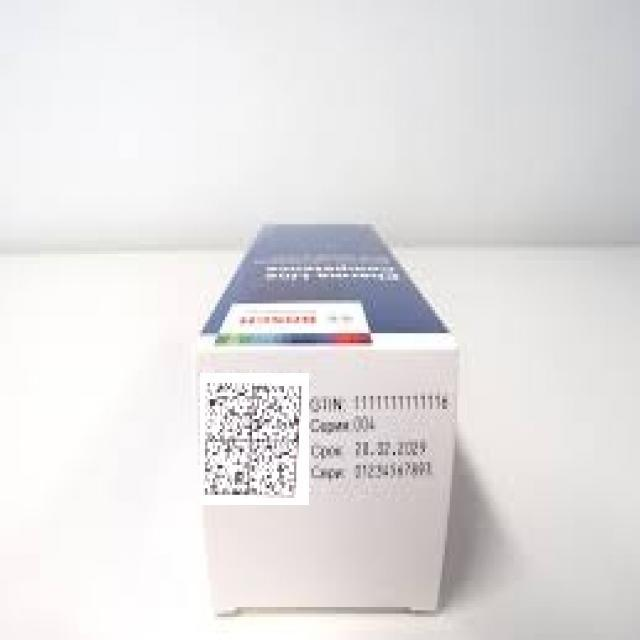Data-Matrix: (200, 373, 309, 505)
